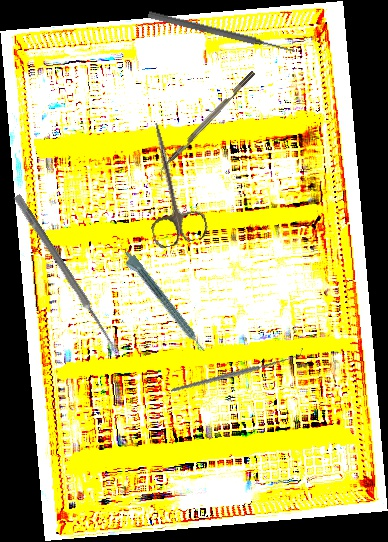Chopper: (153, 70, 261, 181)
Handpiece: (118, 249, 208, 357)
Hook Surgical: (171, 318, 303, 422)
Iris Scissors: (126, 117, 211, 250)
Pusher: (147, 9, 296, 57)
Surgical Spoon: (12, 193, 123, 358)
